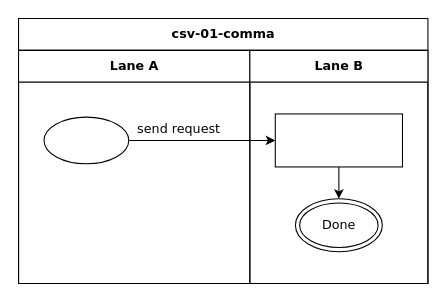
This 447x302 diagram has some shape labels left out. Each missing label, with the centre of its shape:
"Process" belongs at (x=338, y=140).
"Start" belongs at (x=86, y=140).
